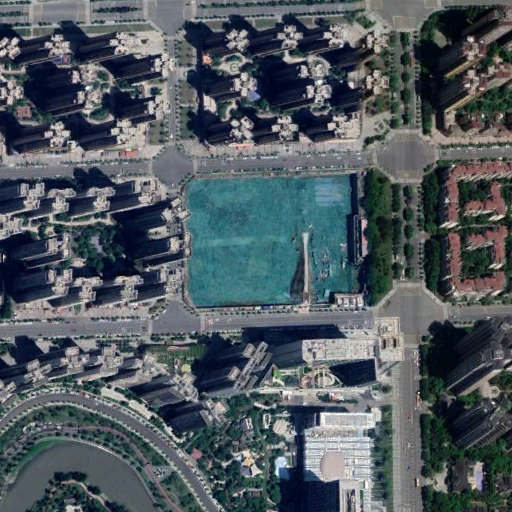cw: (183, 171, 363, 309)
